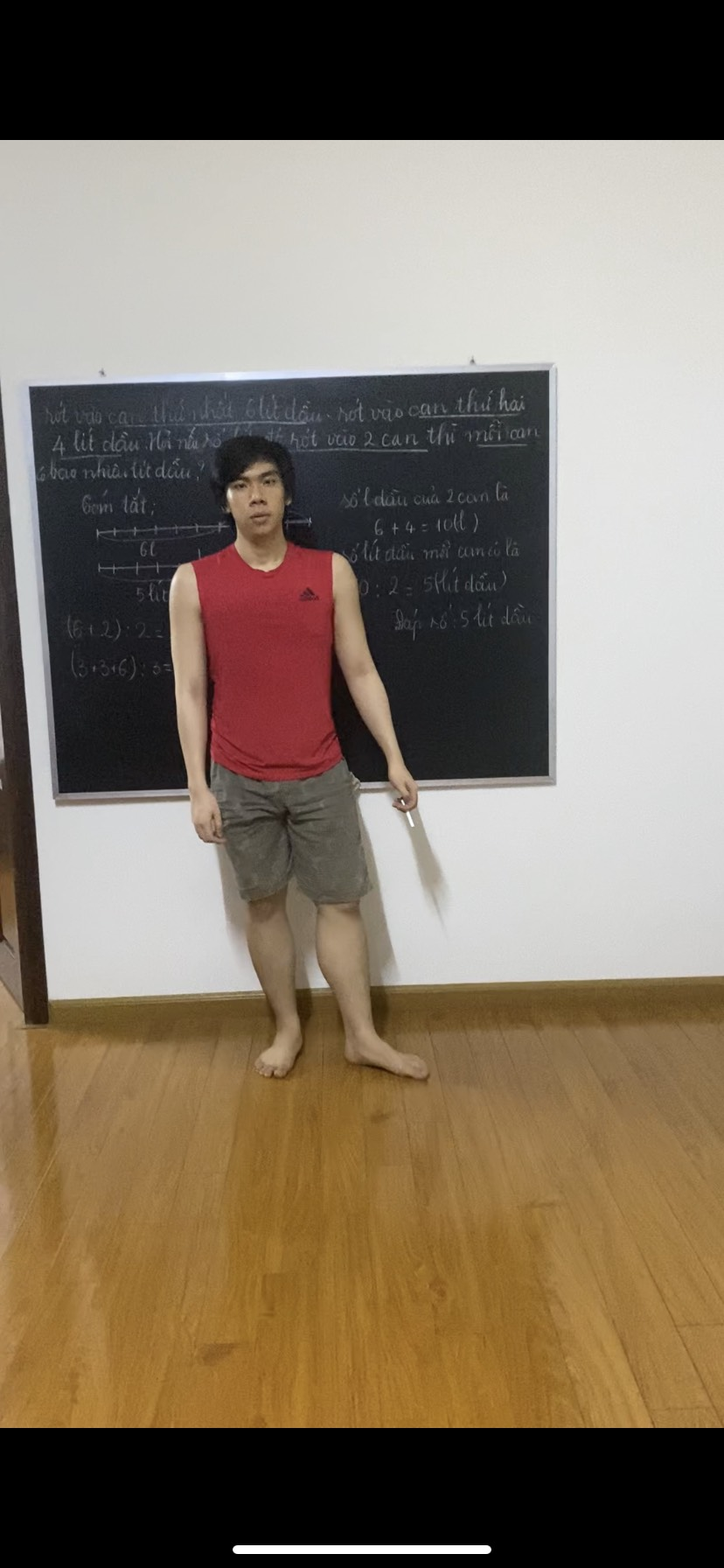cigarette: (401, 810, 420, 833)
person: (171, 421, 434, 1116)
